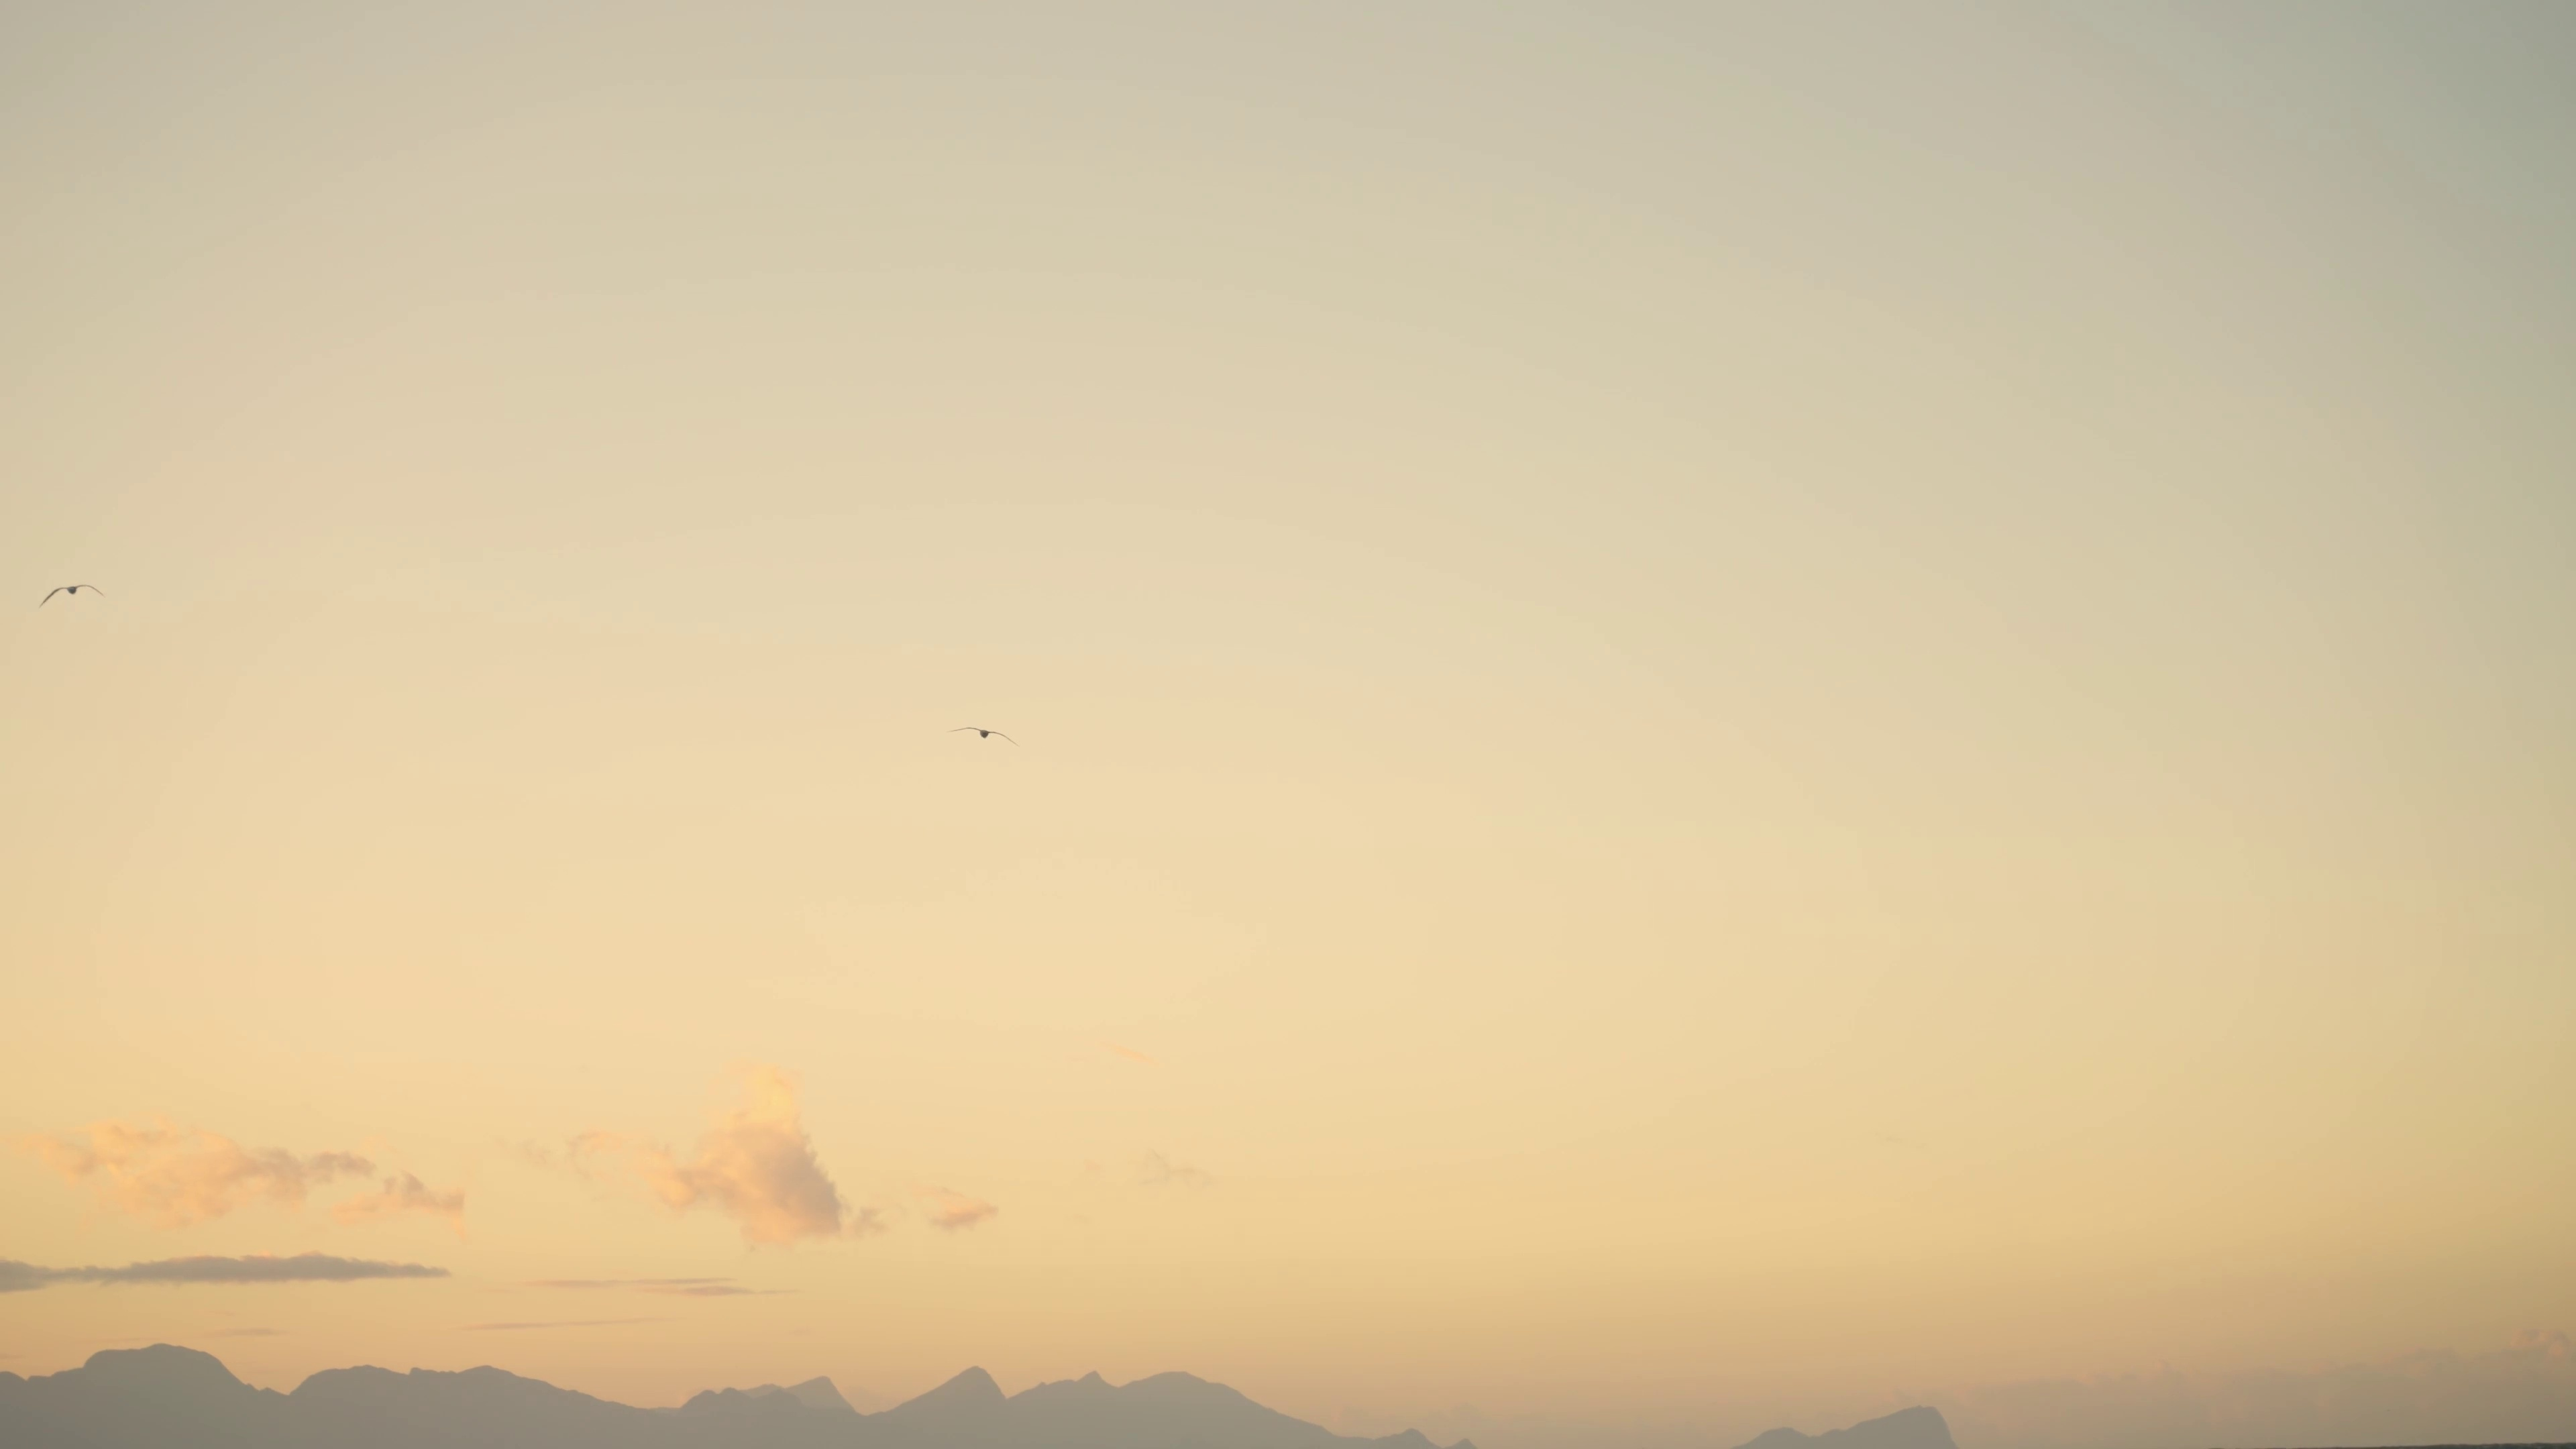bird: (39, 586, 106, 609), (947, 727, 1019, 747)
